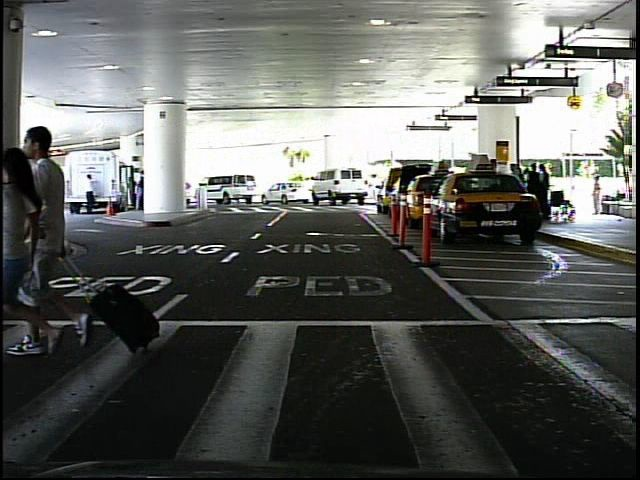person: (26, 113, 93, 360), (588, 172, 607, 218), (84, 171, 98, 214), (369, 168, 380, 203)
